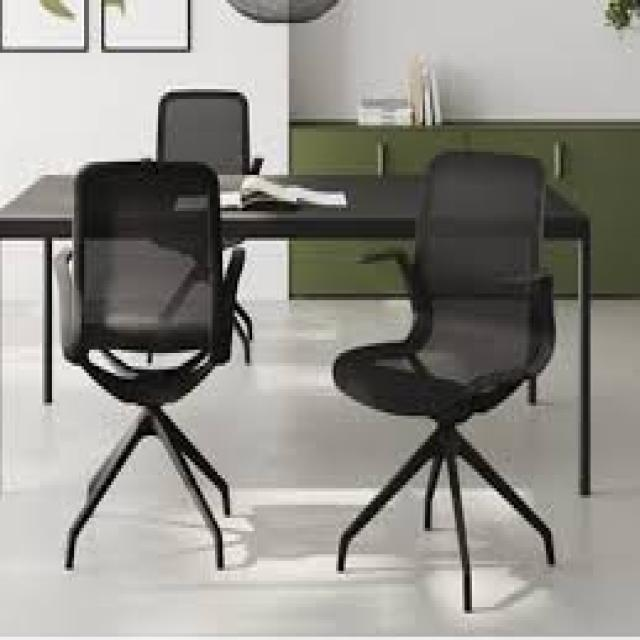chair: (317, 133, 598, 640), (38, 158, 264, 614), (112, 60, 268, 171)
